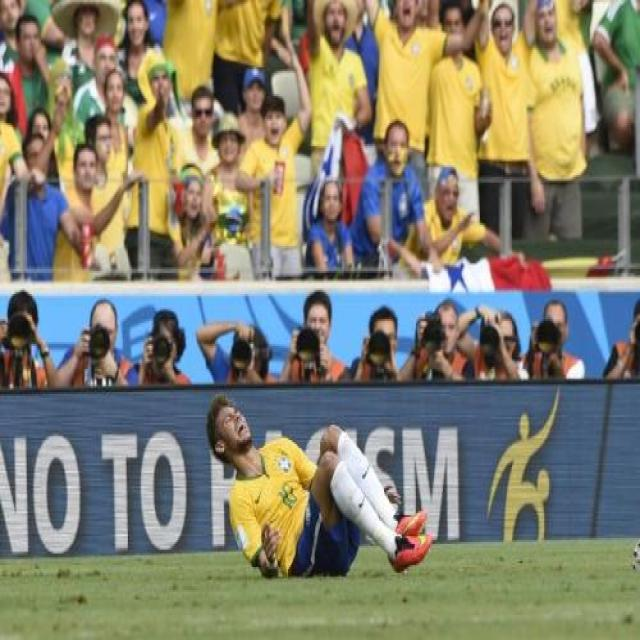10-: (0, 0, 639, 621)
down: (202, 396, 442, 600)
